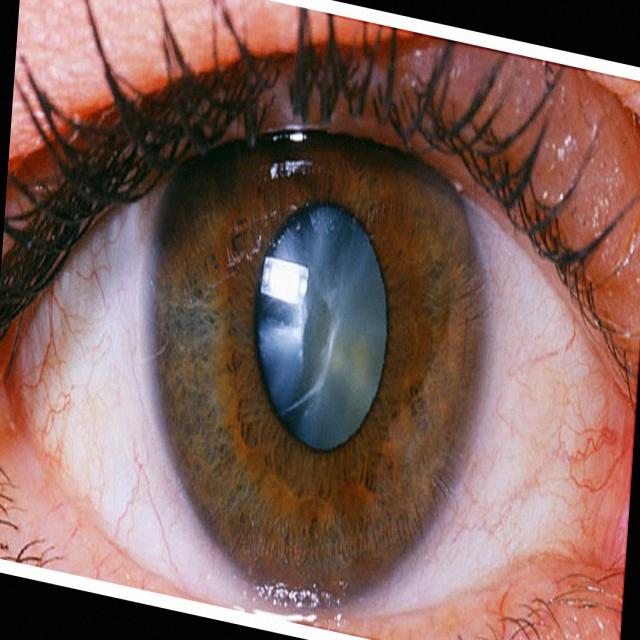Cataract: (150, 32, 447, 608)
